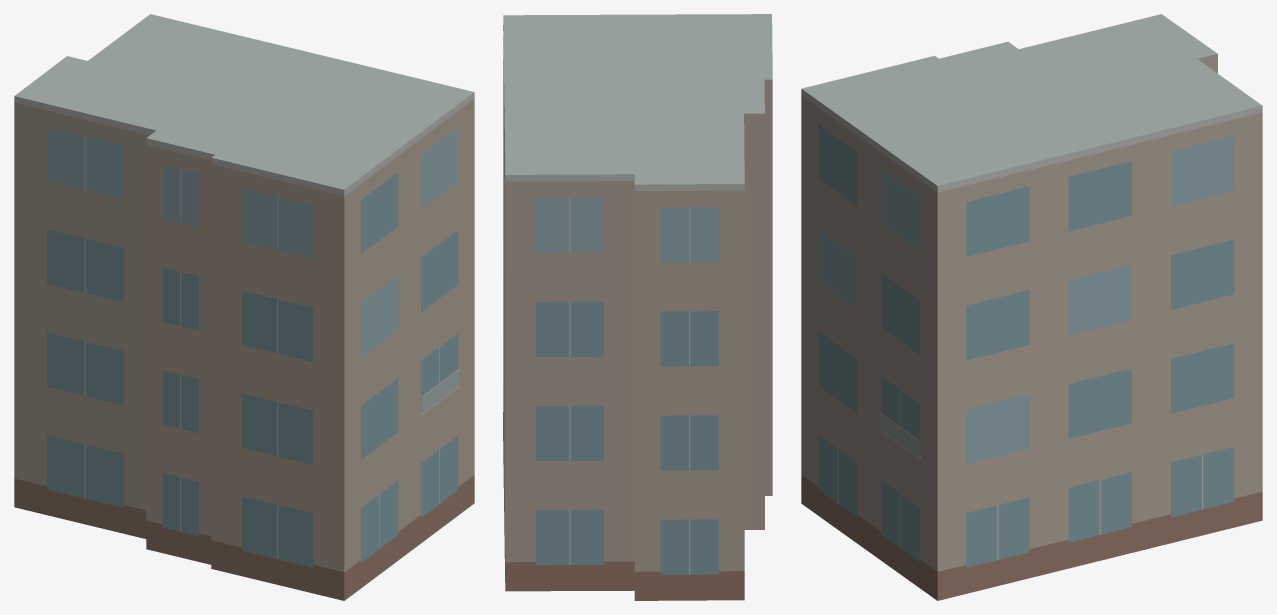
File: survey-upis-33023902.glb
3 renders of one model, left to right at view 1: azimuth 30°, elevation 25°; view 2: azimuth 150°, elevation 25°; view 3: azimuth 270°, elevation 25°, orthographic.
Visible parts, largest first — view 1: survey-upis-33023902.tmp; view 2: survey-upis-33023902.tmp; view 3: survey-upis-33023902.tmp.
Boxes of the visible parts, left/top/right/bottom form: survey-upis-33023902.tmp: left=14, top=14, right=474, bottom=600; survey-upis-33023902.tmp: left=503, top=14, right=772, bottom=600; survey-upis-33023902.tmp: left=801, top=14, right=1262, bottom=600.
Size of the model in its own units: 13.62 by 15.3 by 15.43.
